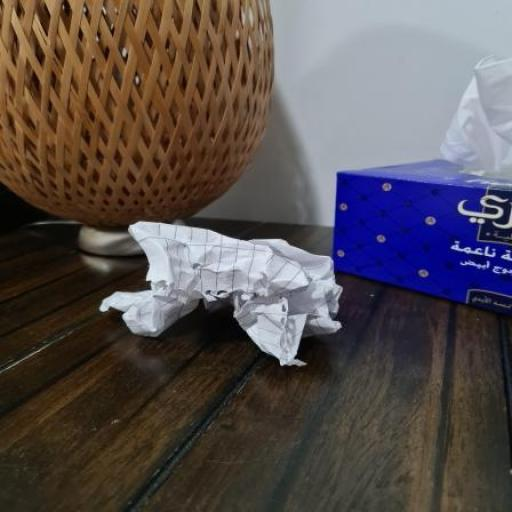paper: (114, 221, 346, 363)
